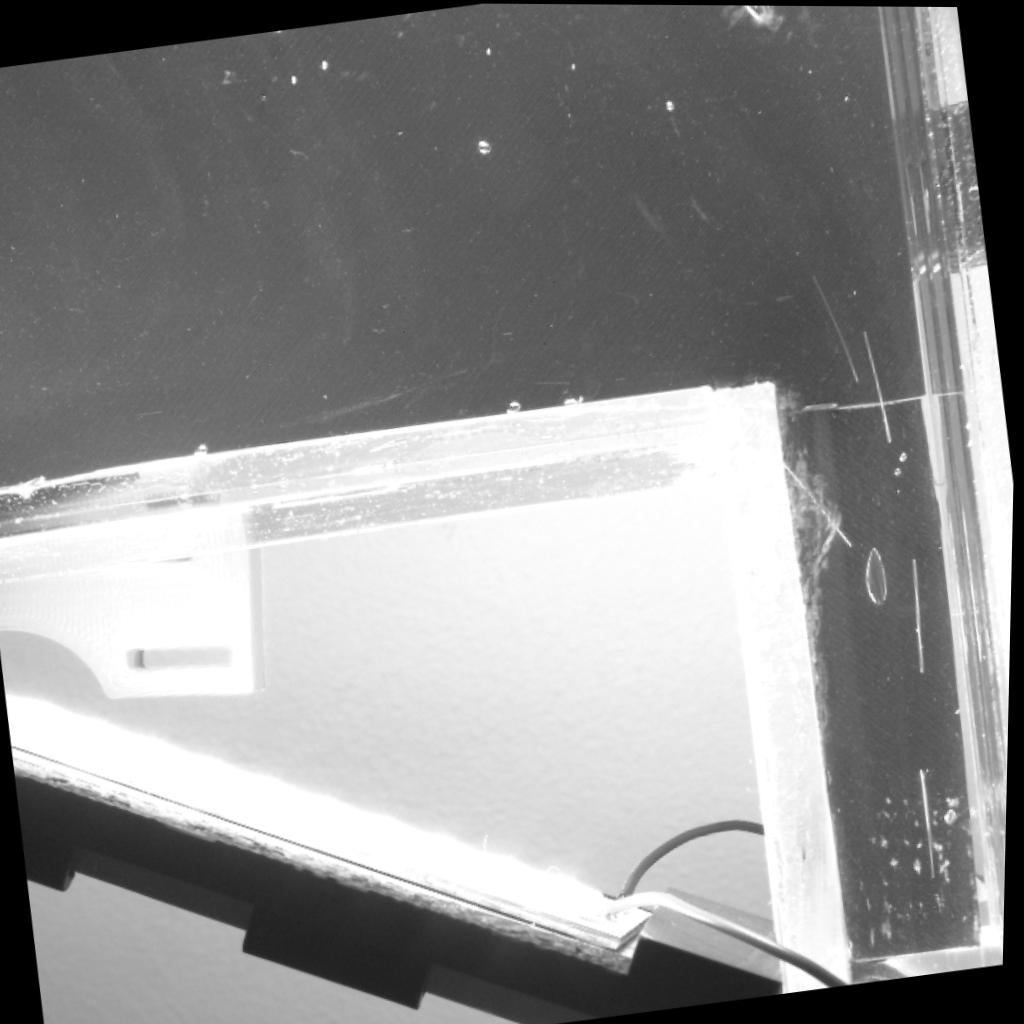Fiber: (779, 451, 860, 546), (805, 268, 868, 385), (863, 329, 897, 442), (921, 765, 945, 878), (910, 554, 929, 675)
